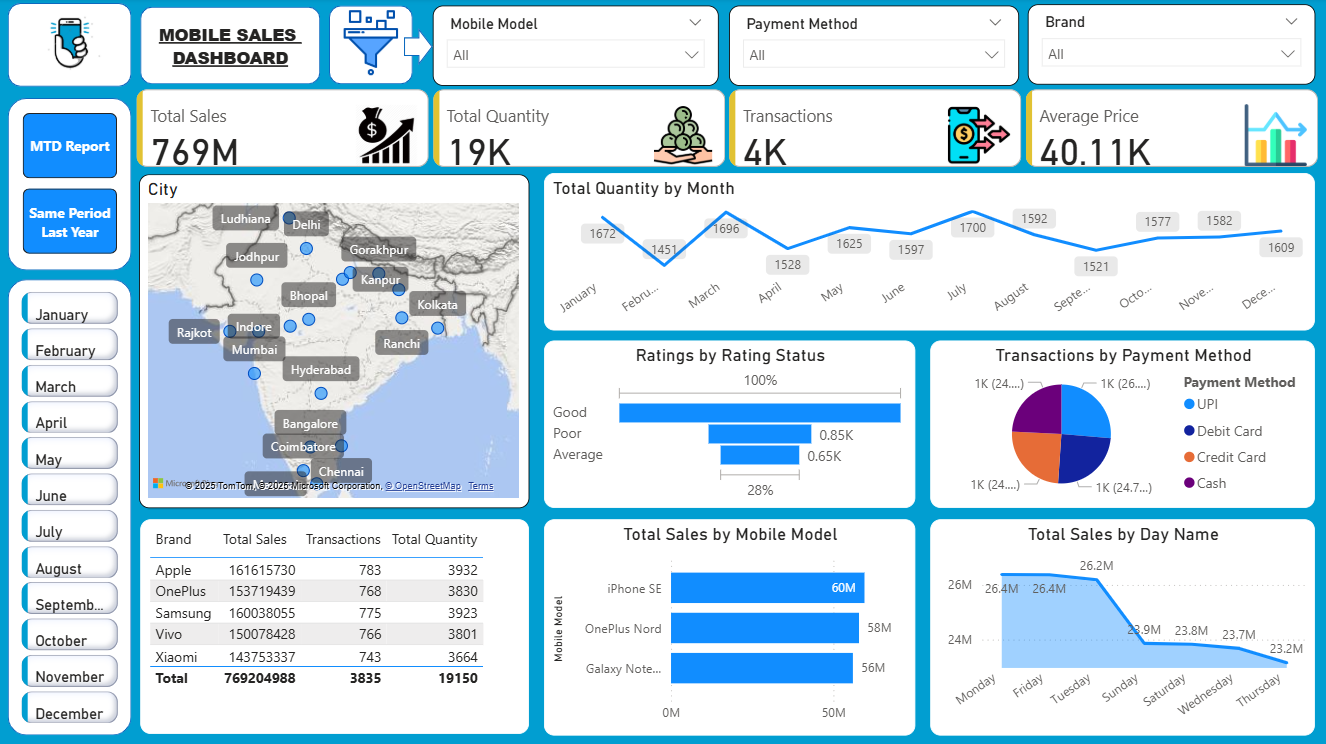

The page's visual inventory and layout, read from the dashboard file:
{"tool":"powerbi","page":{"name":"Dashboard","canvas":[1280,720],"ordinal":0},"visuals":[{"type":"shape","box":[8.4,4.8,119.4,80.8],"z":0},{"type":"image","box":[8.4,7.2,119.4,76],"z":1000},{"type":"shape","box":[8.4,96.5,119.4,166.5],"z":2000},{"type":"shape","box":[8.4,271.4,119.4,440.4],"z":3000},{"type":"advancedSlicerVisual","fields":{"Values":["Custom Calendar.Date.Variation.Date Hierarchy.Month"]},"box":[16.9,278.7,103.8,427.1],"z":4000},{"type":"cardVisual","fields":{"Data":["Mobile Sales Data.Total Sales","Mobile Sales Data.Total Quantity","Mobile Sales Data.Transactions","Mobile Sales Data.Average Price"]},"box":[127.8,83.2,1152.2,85.7],"z":5000},{"type":"slicer","fields":{"Values":["Mobile Sales Data.Mobile Model"]},"box":[418.6,7.2,276.3,77.2],"z":6000},{"type":"slicer","fields":{"Values":["Mobile Sales Data.Payment Method"]},"box":[704.6,7.2,279.9,77.2],"z":7000},{"type":"slicer","fields":{"Values":["Mobile Sales Data.Brand"]},"box":[992.9,6,277.5,77.2],"z":8000},{"type":"shape","box":[318.5,7.2,80.8,76],"z":9000},{"type":"image","box":[318.5,6,80.8,74.8],"z":10000},{"type":"shape","box":[390.9,29,27.7,36.2],"z":11000},{"type":"shape","box":[136.3,8.4,173.7,74.8],"z":12000},{"type":"textbox","box":[136.3,19.3,173.7,56.7],"z":13000},{"type":"map","fields":{"Category":["Mobile Sales Data.City"]},"box":[135.1,170.1,376.4,322.1],"z":15000},{"type":"lineChart","fields":{"Category":["Custom Calendar.Date.Variation.Date Hierarchy.Month"],"Y":["Mobile Sales Data.Total Quantity"]},"box":[526,168.9,744.4,152],"z":16000},{"type":"funnel","title":"Ratings by Rating Status","fields":{"Y":["CountNonNull(Mobile Sales Data.Customer Ratings)"],"Category":["Mobile Sales Data.Rating Status"]},"box":[526,330.6,358.3,161.7],"z":17000},{"type":"pieChart","fields":{"Y":["Mobile Sales Data.Transactions"],"Category":["Mobile Sales Data.Payment Method"]},"box":[898.8,330.6,371.6,161.7],"z":18000},{"type":"clusteredBarChart","fields":{"Y":["Mobile Sales Data.Total Sales"],"Category":["Mobile Sales Data.Mobile Model"]},"box":[526,503.1,358.3,208.7],"z":19000},{"type":"areaChart","fields":{"Category":["Custom Calendar.Day Name"],"Y":["Mobile Sales Data.Total Sales"]},"box":[898.8,503.1,371.6,208.7],"z":20000},{"type":"tableEx","fields":{"Values":["Mobile Sales Data.Brand","Mobile Sales Data.Total Sales","Mobile Sales Data.Transactions","Mobile Sales Data.Total Quantity"]},"box":[136.3,503.1,375.2,207.5],"z":21000},{"type":"pageNavigator","box":[22.9,111,91.7,137.5],"z":21001}]}

Visuals, with their boxes in screenshot pixels (x1, y1, x2, y2), scaled from the page's 1280x720 canvas onto the 1326x744 screenshot:
shape: pyautogui.locateOnScreen(9, 5, 132, 88)
image: pyautogui.locateOnScreen(9, 7, 132, 86)
shape: pyautogui.locateOnScreen(9, 100, 132, 272)
shape: pyautogui.locateOnScreen(9, 280, 132, 736)
advancedSlicerVisual - Custom Calendar.Date.Variation.Date Hierarchy.Month: pyautogui.locateOnScreen(18, 288, 125, 729)
cardVisual - Mobile Sales Data.Total Sales x Mobile Sales Data.Total Quantity: pyautogui.locateOnScreen(132, 86, 1325, 175)
slicer - Mobile Sales Data.Mobile Model: pyautogui.locateOnScreen(434, 7, 720, 87)
slicer - Mobile Sales Data.Payment Method: pyautogui.locateOnScreen(730, 7, 1020, 87)
slicer - Mobile Sales Data.Brand: pyautogui.locateOnScreen(1029, 6, 1316, 86)
shape: pyautogui.locateOnScreen(330, 7, 414, 86)
image: pyautogui.locateOnScreen(330, 6, 414, 83)
shape: pyautogui.locateOnScreen(405, 30, 434, 67)
shape: pyautogui.locateOnScreen(141, 9, 321, 86)
textbox: pyautogui.locateOnScreen(141, 20, 321, 79)
map - Mobile Sales Data.City: pyautogui.locateOnScreen(140, 176, 530, 509)
lineChart - Custom Calendar.Date.Variation.Date Hierarchy.Month x Mobile Sales Data.Total Quantity: pyautogui.locateOnScreen(545, 175, 1316, 332)
"Ratings by Rating Status" funnel: pyautogui.locateOnScreen(545, 342, 916, 509)
pieChart - Mobile Sales Data.Transactions x Mobile Sales Data.Payment Method: pyautogui.locateOnScreen(931, 342, 1316, 509)
clusteredBarChart - Mobile Sales Data.Total Sales x Mobile Sales Data.Mobile Model: pyautogui.locateOnScreen(545, 520, 916, 736)
areaChart - Custom Calendar.Day Name x Mobile Sales Data.Total Sales: pyautogui.locateOnScreen(931, 520, 1316, 736)
tableEx - Mobile Sales Data.Brand x Mobile Sales Data.Total Sales: pyautogui.locateOnScreen(141, 520, 530, 734)
pageNavigator: pyautogui.locateOnScreen(24, 115, 119, 257)
